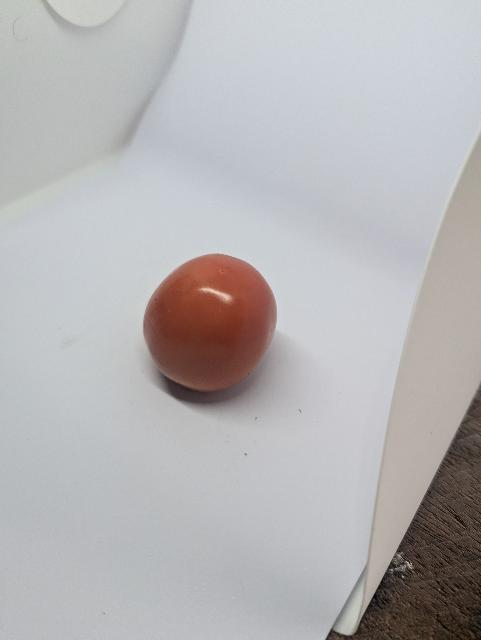red: (136, 248, 281, 400)
